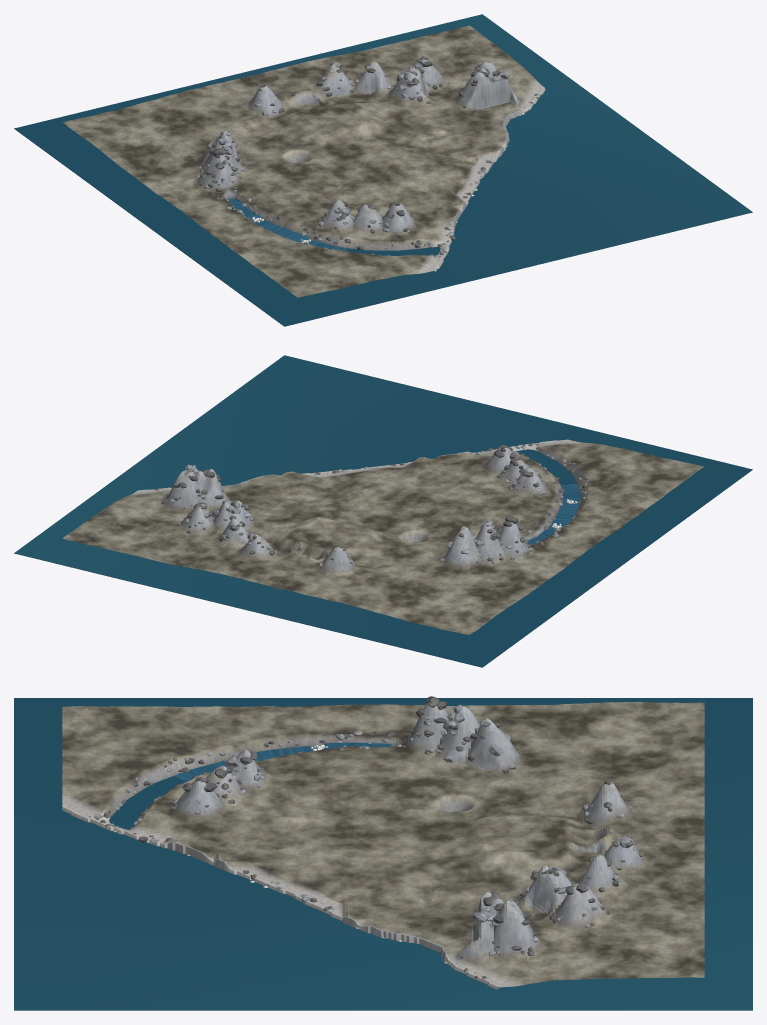
Rendered from Terrain_P3.fbx.
The picture shows the model from 3 angles, top to bottom: view 1: azimuth 30°, elevation 25°; view 2: azimuth 150°, elevation 25°; view 3: azimuth 270°, elevation 25°; orthographic projection. The views are drawn at different scales.
Visible parts, largest first — view 1: Ground, Sea, River; view 2: Ground, Sea, River; view 3: Ground, Sea, River.
Part boxes in pixels (x1,y1,x2,y2): Ground: [62, 25, 545, 297]; Sea: [14, 14, 752, 326]; River: [228, 198, 347, 250]; Ground: [62, 439, 704, 635]; Sea: [14, 355, 752, 667]; River: [528, 483, 580, 544]; Ground: [62, 702, 704, 989]; Sea: [14, 698, 752, 1010]; River: [174, 742, 391, 781].
Bounding box in the file's own units: 73600 × 8569 × 73600.
